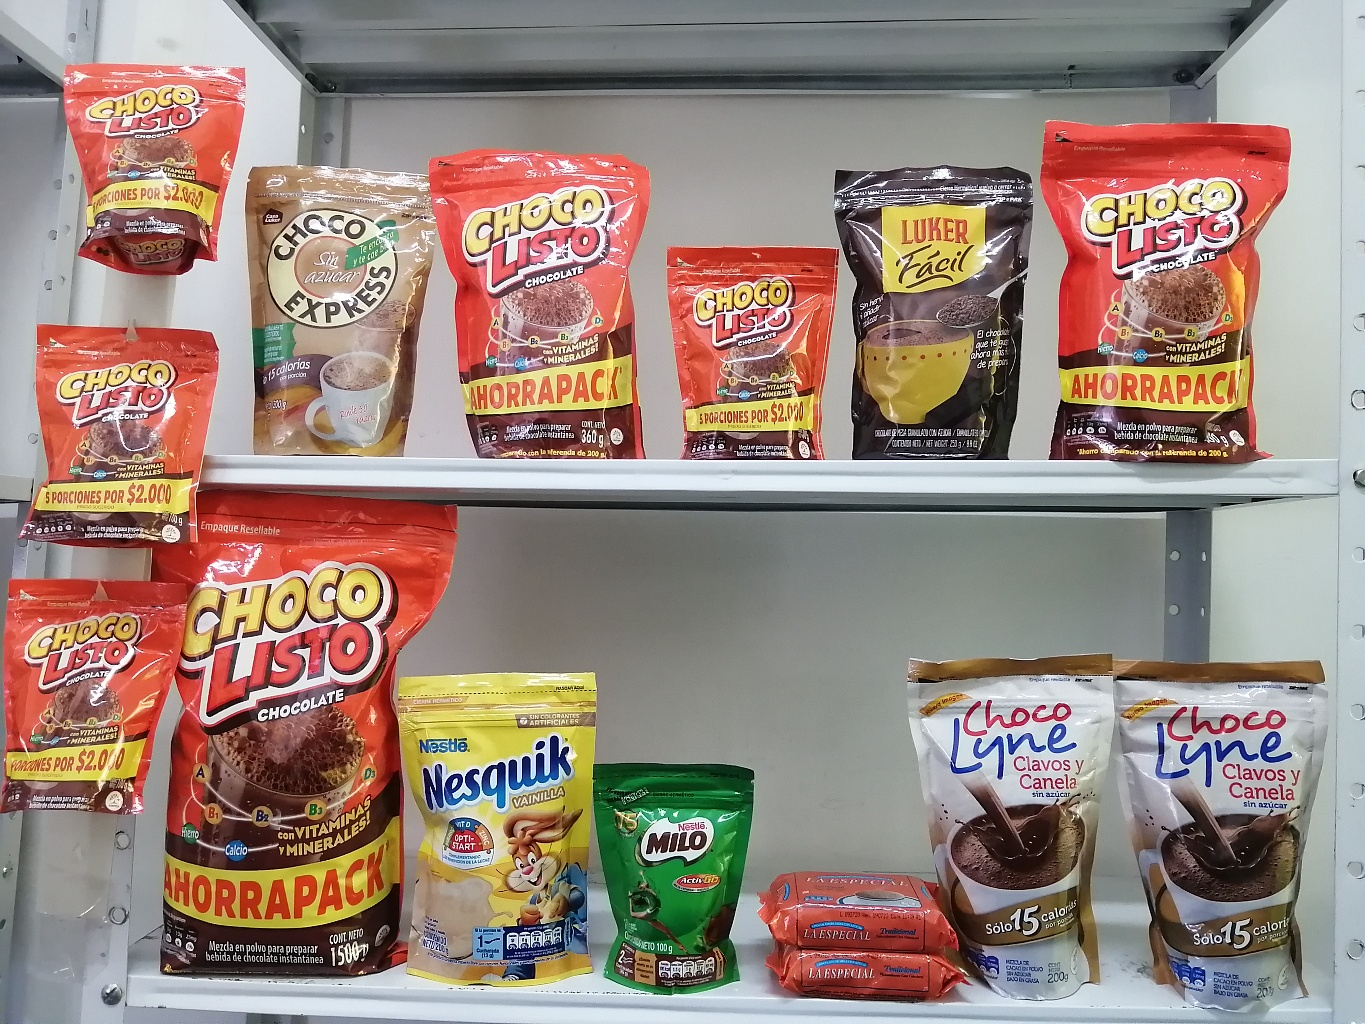COL0170103DYP1,500: (157, 486, 457, 983)
COL0170103DYP10000: (65, 65, 245, 276)
COL0170103DYP36000: (427, 151, 651, 458)
COL0170103DYP40000: (1046, 120, 1288, 466)
COL0170203DYP10000: (591, 760, 754, 997)
COL0170306DYP20000: (396, 675, 598, 989)
